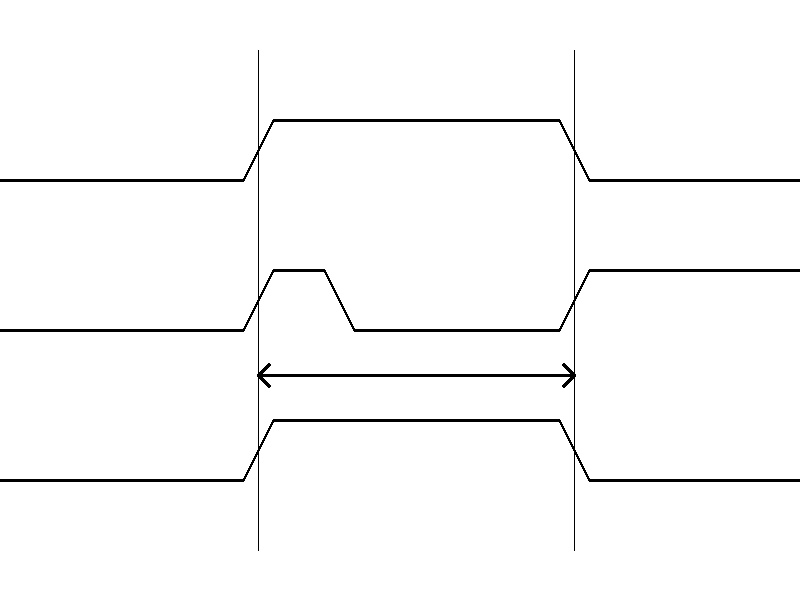double_arrow: (258, 360, 574, 390)
